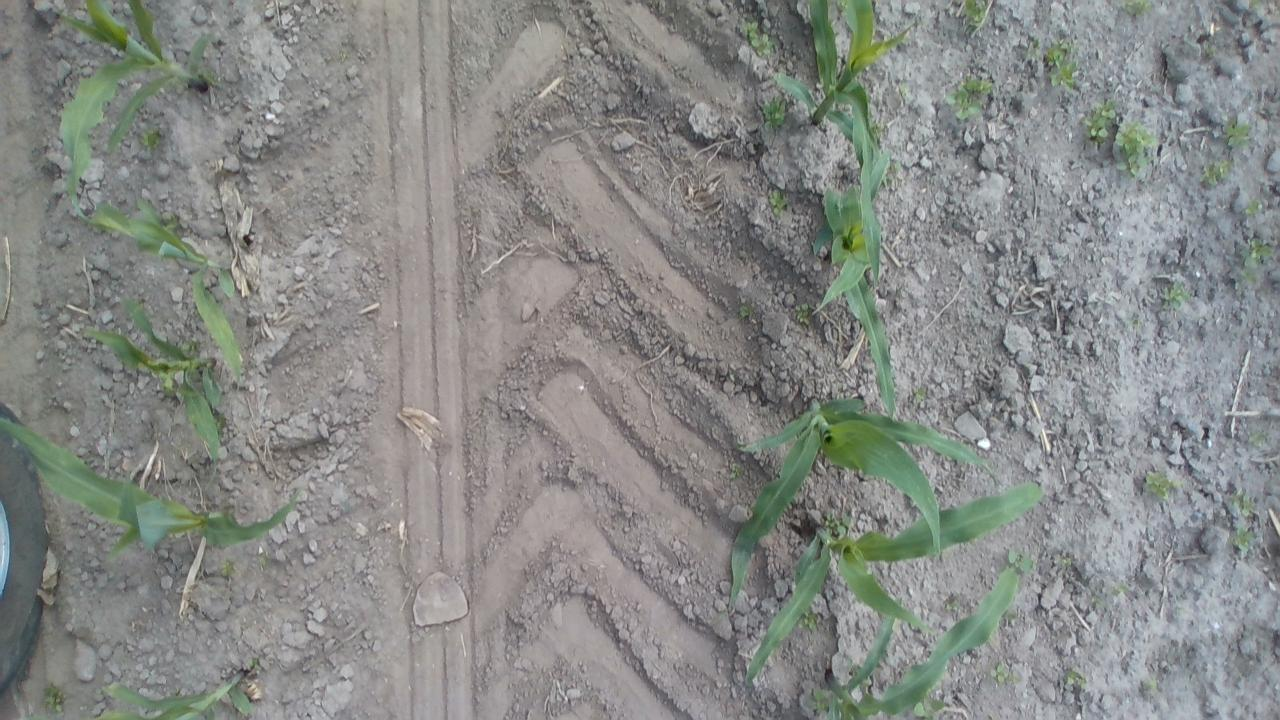Maize: (741, 480, 1052, 690), (722, 393, 1001, 614), (0, 406, 310, 566), (773, 0, 921, 282), (52, 0, 225, 221), (802, 560, 1026, 720), (80, 190, 248, 390), (80, 298, 226, 492), (818, 140, 902, 419), (88, 662, 264, 720)
Weeds: (1082, 95, 1158, 178), (937, 71, 995, 124), (1231, 234, 1276, 294), (1032, 38, 1080, 90), (1142, 463, 1193, 508), (739, 18, 777, 59), (36, 683, 72, 720), (1224, 117, 1260, 153), (759, 91, 790, 131), (986, 659, 1021, 694), (1227, 522, 1261, 558), (1003, 548, 1041, 580), (1160, 280, 1196, 313), (958, 0, 992, 32), (821, 506, 855, 536), (1199, 159, 1234, 188), (136, 126, 168, 153), (1226, 487, 1253, 518), (766, 187, 790, 219), (1064, 664, 1091, 692), (914, 698, 948, 720), (719, 458, 746, 484), (789, 300, 816, 325), (1246, 428, 1270, 454), (252, 550, 276, 576), (812, 688, 836, 714), (796, 608, 820, 634), (1110, 576, 1137, 598), (910, 380, 931, 408), (1120, 0, 1152, 17), (1141, 673, 1164, 696), (1240, 195, 1264, 216), (941, 598, 966, 618), (218, 558, 238, 579), (737, 304, 759, 322)
